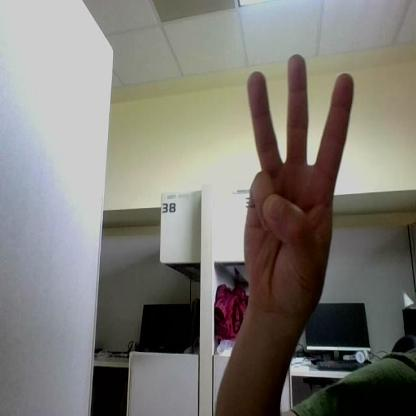W: (244, 54, 353, 302)
